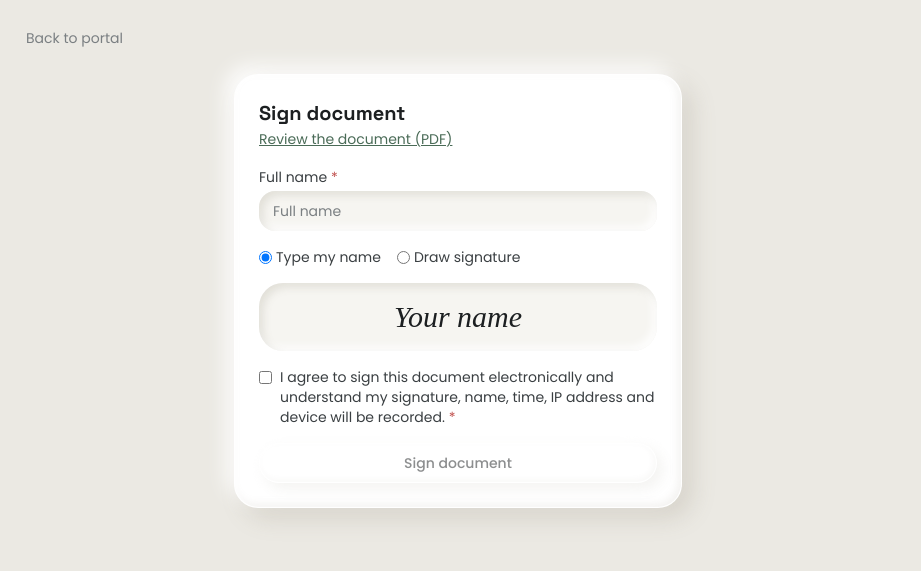
Test: PortalSignPage › requires a name and consent before signing, then submits a typed signature
Expected: the button "Sign document" is disabled, left=259, top=443, right=657, bottom=483
Type "Ada Lovelace" into the field labelled "Full name" at [458, 211], box left=259, top=191, right=657, bottom=231
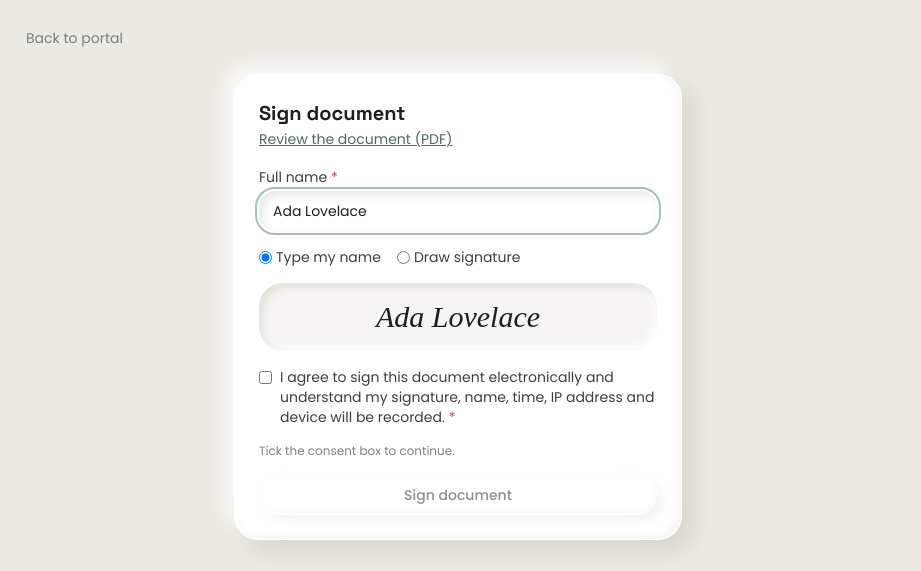
Expected: the button "Sign document" is disabled, left=259, top=475, right=657, bottom=515
Click the checkbox at [266, 378], box left=259, top=371, right=272, bottom=384
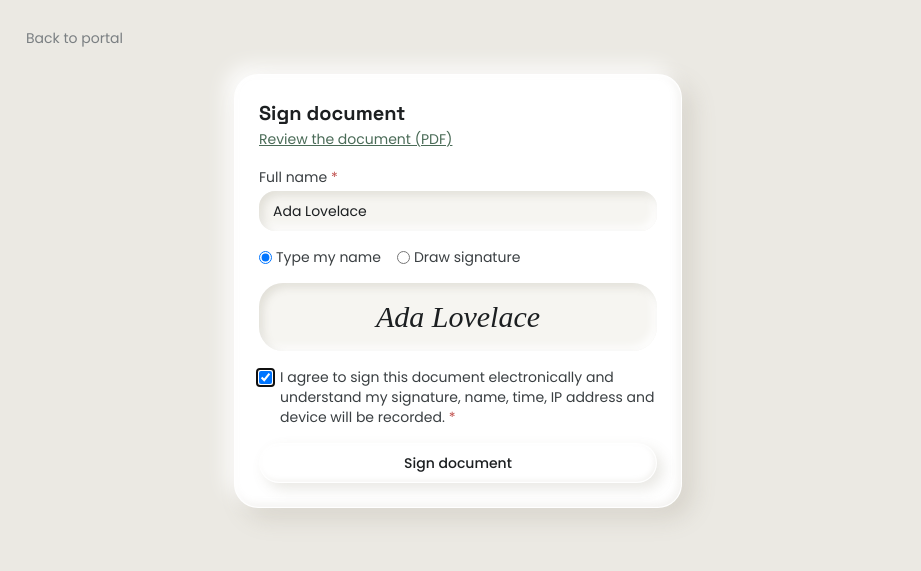
Now the button "Sign document" is enabled
Click the button "Sign document" at [458, 463], box left=259, top=443, right=657, bottom=483
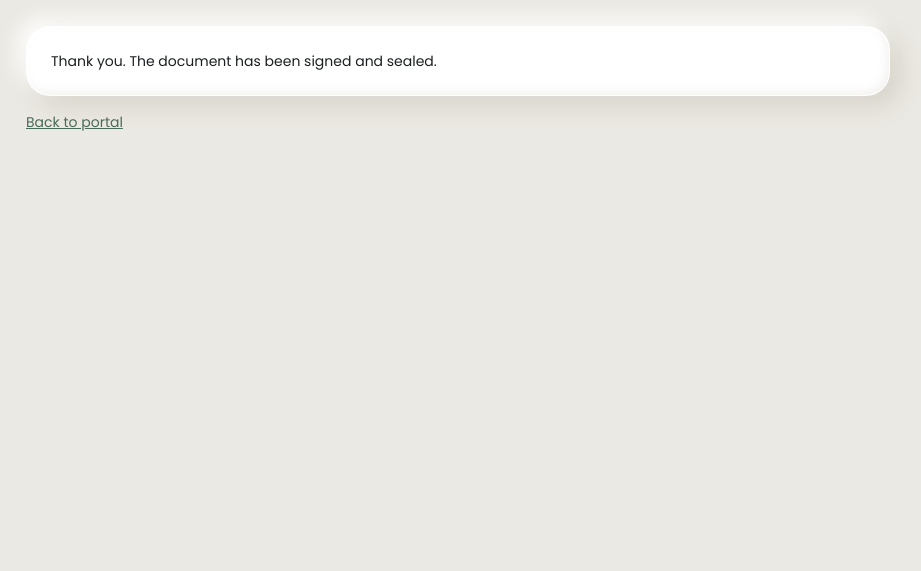
Now the text "Thank you. The document has been signed and sealed." is shown, box left=26, top=26, right=890, bottom=96
